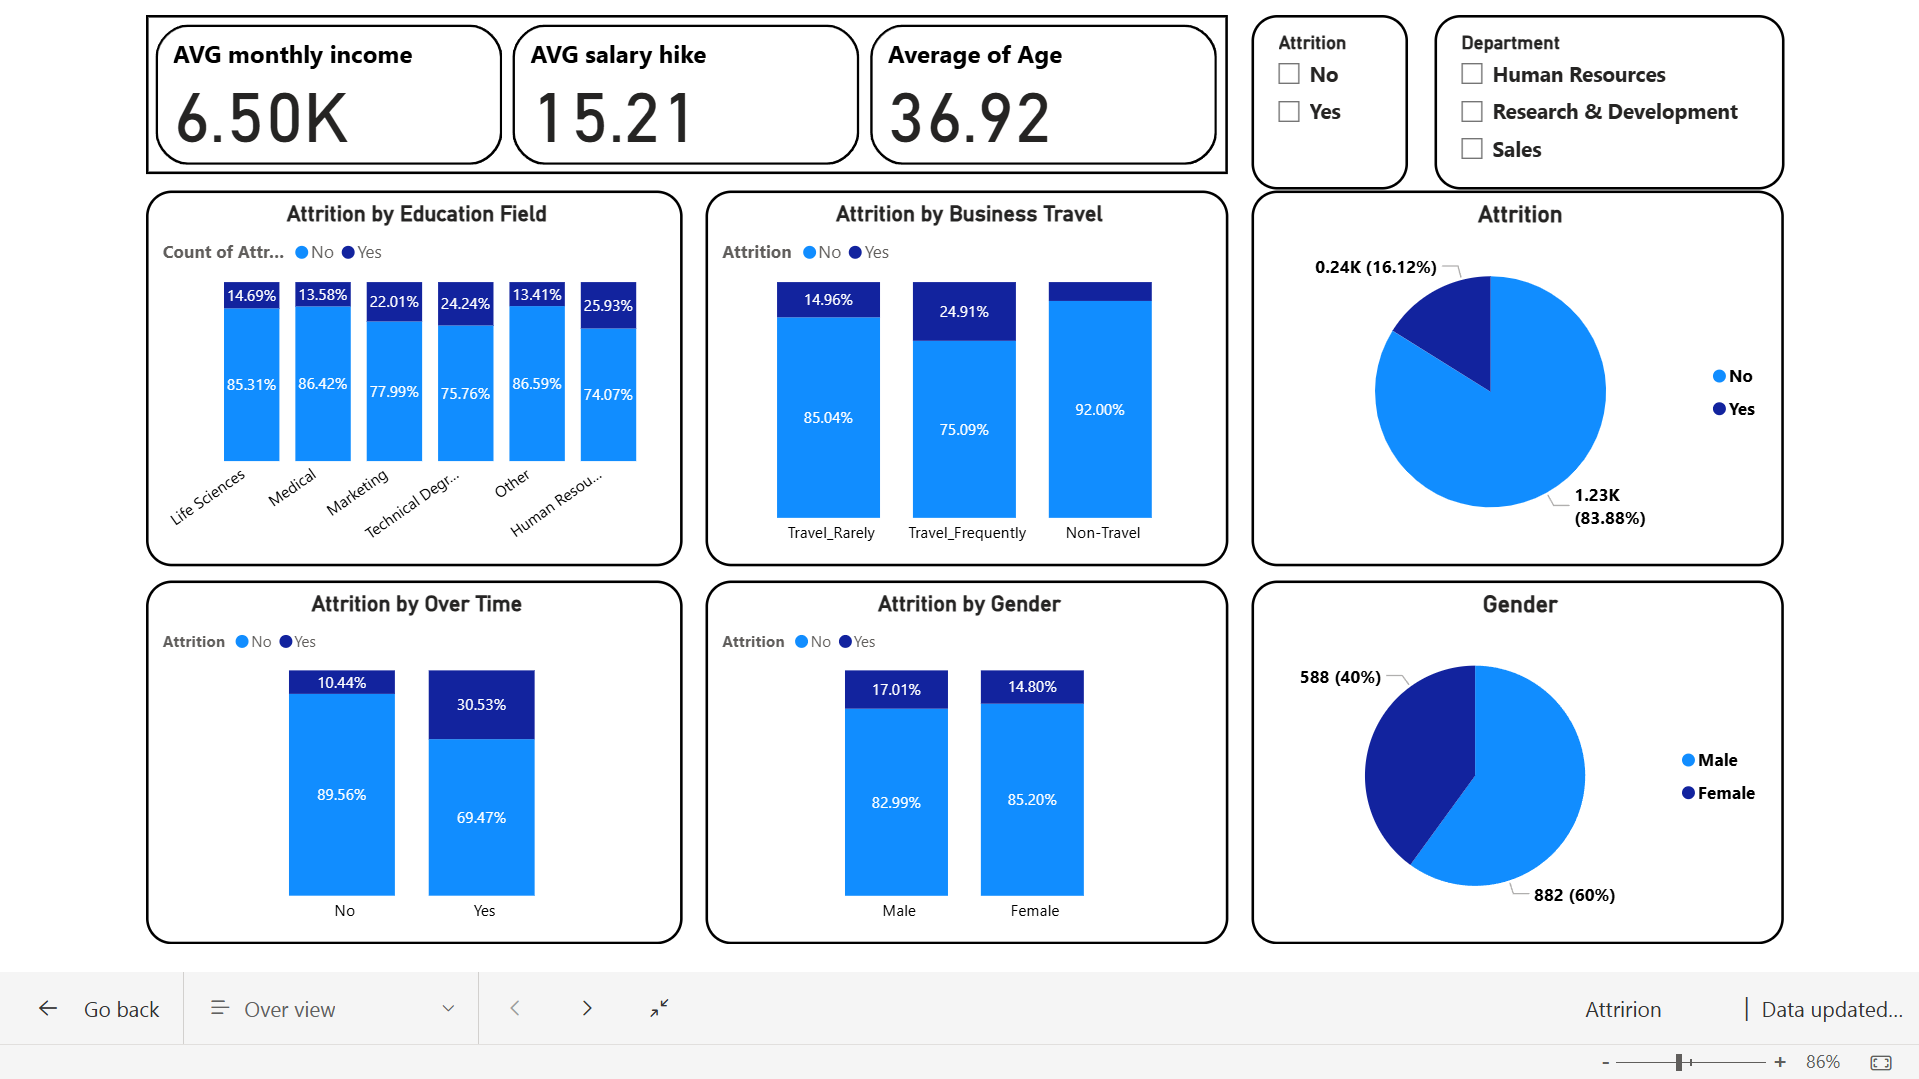

Layout of this report page (visuals, bound fields, positions):
{"tool":"powerbi","page":{"name":"Over view","canvas":[1280,720],"ordinal":0},"visuals":[{"type":"cardVisual","fields":{"Data":["Avg(clean data.MonthlyIncome)","Avg(clean data.PercentSalaryHike)","Avg(clean data.Age)"]},"box":[9.4,0,838.4,123.1],"z":0},{"type":"pieChart","title":"Attrition","fields":{"Category":["clean data.Attrition"],"Y":["CountNonNull(clean data.Attrition)"]},"box":[866.5,135.6,413,291.4],"z":1000},{"type":"pieChart","title":"Gender","fields":{"Category":["clean data.Gender"],"Y":["CountNonNull(clean data.Gender)"]},"box":[866.5,437.9,413,282.1],"z":2000},{"type":"hundredPercentStackedColumnChart","title":"Attrition by Business Travel","fields":{"Category":["clean data.BusinessTravel"],"Y":["CountNonNull(clean data.Attrition)"],"Series":["clean data.Attrition"]},"box":[442.6,135.6,405.2,291.4],"z":3000},{"type":"hundredPercentStackedColumnChart","title":"Attrition by Gender","fields":{"Category":["clean data.Gender"],"Y":["CountNonNull(clean data.Attrition)"],"Series":["clean data.Attrition"]},"box":[442.6,437.9,405.2,282.1],"z":4000},{"type":"hundredPercentStackedColumnChart","title":"Attrition by Education Field","fields":{"Category":["clean data.EducationField"],"Y":["CountNonNull(clean data.Attrition)"],"Series":["clean data.Attrition"]},"box":[9.4,135.6,416.1,291.4],"z":5000},{"type":"hundredPercentStackedColumnChart","title":"Attrition by Over Time","fields":{"Category":["clean data.OverTime"],"Y":["CountNonNull(clean data.Attrition)"],"Series":["clean data.Attrition"]},"box":[9,438,416,282],"z":6000},{"type":"slicer","fields":{"Values":["clean data.Attrition"]},"box":[866.5,0,121.6,135.6],"z":7000},{"type":"slicer","fields":{"Values":["clean data.Department"]},"box":[1008.3,0,271.2,135.6],"z":8000}]}

Visuals, with their boxes on the page's 1280x720 design canvas (x1, y1, x2, y2). These are canvas units, not pixel positions in the 1919x1079 screenshot, which may show the page scaled, cropped or inside an application window:
cardVisual - Avg(clean data.MonthlyIncome) x Avg(clean data.PercentSalaryHike): 9 0 848 123
"Attrition" pieChart: 866 136 1280 427
"Gender" pieChart: 866 438 1280 720
"Attrition by Business Travel" hundredPercentStackedColumnChart: 443 136 848 427
"Attrition by Gender" hundredPercentStackedColumnChart: 443 438 848 720
"Attrition by Education Field" hundredPercentStackedColumnChart: 9 136 426 427
"Attrition by Over Time" hundredPercentStackedColumnChart: 9 438 425 720
slicer - clean data.Attrition: 866 0 988 136
slicer - clean data.Department: 1008 0 1280 136
